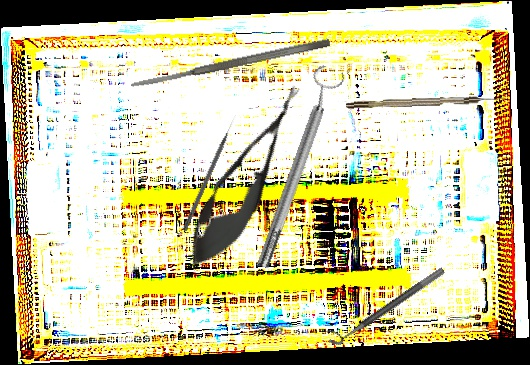Fixation Ring: (245, 63, 349, 272), (323, 257, 446, 350)
Hook Surgical: (181, 114, 239, 232), (345, 95, 507, 109)
Micro Scissor: (172, 73, 320, 284)
Spatula Surgical: (130, 37, 331, 90)
